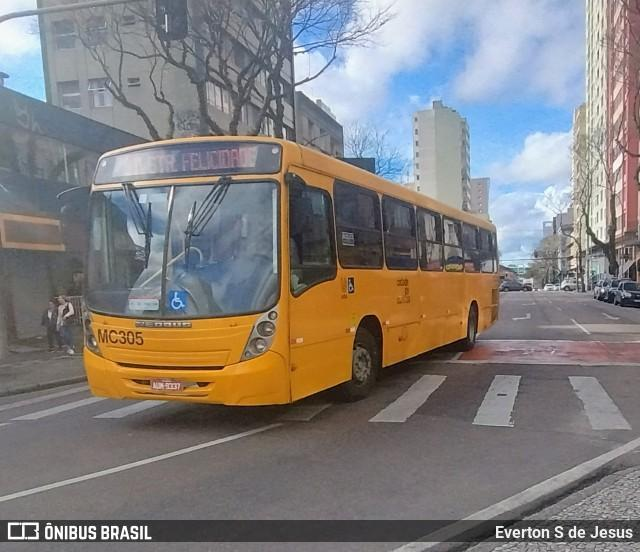STA. FELICIDADE: (143, 144, 260, 178)
